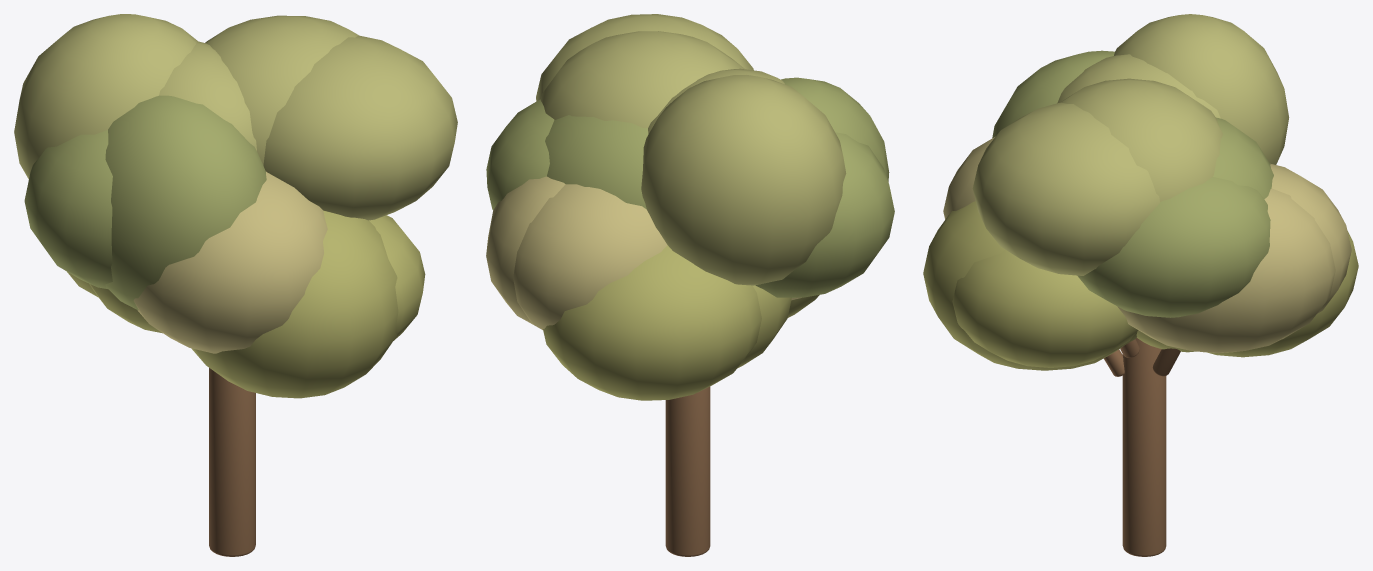
File: tree_1.glb
The picture shows the model from 3 angles, left to right: view 1: azimuth 30°, elevation 25°; view 2: azimuth 150°, elevation 25°; view 3: azimuth 270°, elevation 25°; orthographic projection. The views are drawn at different scales.
Parts seen in each view (by area): view 1: Trunk; view 2: Trunk; view 3: Trunk.
Part boxes in pixels (x1,y1,x2,y2): Trunk: (14, 14, 457, 556); Trunk: (486, 14, 894, 556); Trunk: (923, 14, 1358, 556).
Size of the model in its own units: 4.51 by 5.94 by 4.8.
